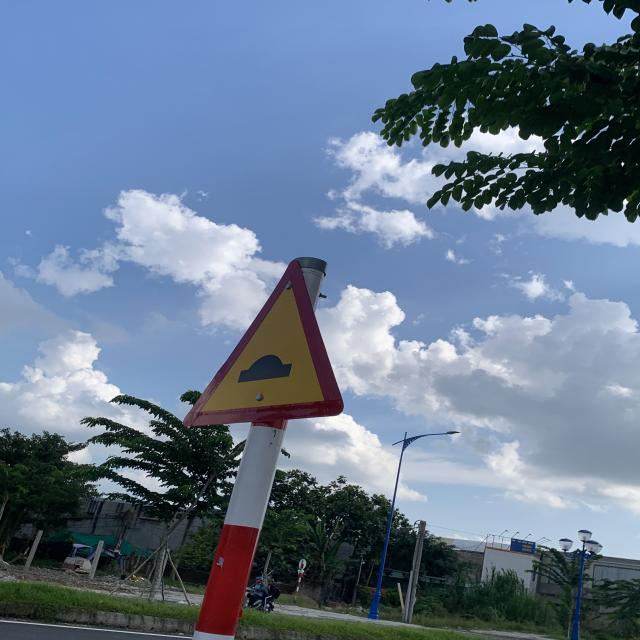Duong_Cong_Ben_Phai: (176, 258, 344, 424)
